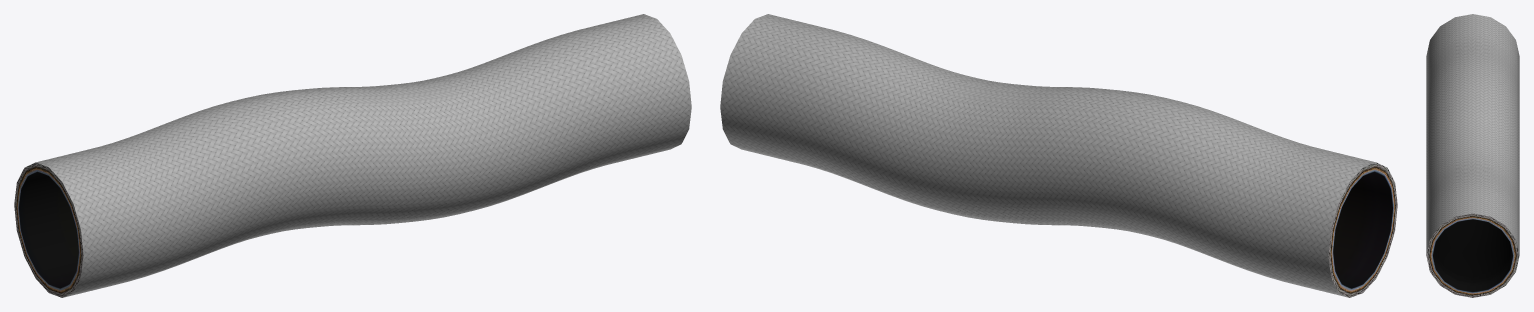
Rendered from Stainless_Steel_Braid-32_V1.1.glb.
The picture shows the model from 3 angles, left to right: view 1: azimuth 30°, elevation 25°; view 2: azimuth 150°, elevation 25°; view 3: azimuth 270°, elevation 25°; orthographic projection. The views are drawn at different scales.
Parts seen in each view (by area): view 1: Stainless_Steel_Braid-32.001; view 2: Stainless_Steel_Braid-32.001; view 3: Stainless_Steel_Braid-32.001.
Boxes of the visible parts, x1,y1,x2,y2 form: Stainless_Steel_Braid-32.001: (14, 14, 691, 297); Stainless_Steel_Braid-32.001: (720, 14, 1397, 297); Stainless_Steel_Braid-32.001: (1426, 14, 1519, 297).
Size of the model in its own units: 0.3074 by 0.0734 by 0.0607.
Materials: 2 (2 with a texture image).
